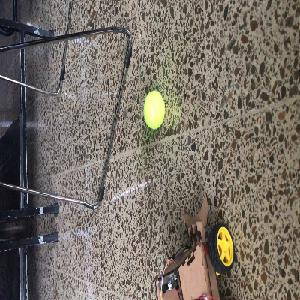Ball: (144, 91, 165, 129)
Robot: (154, 192, 235, 298)
